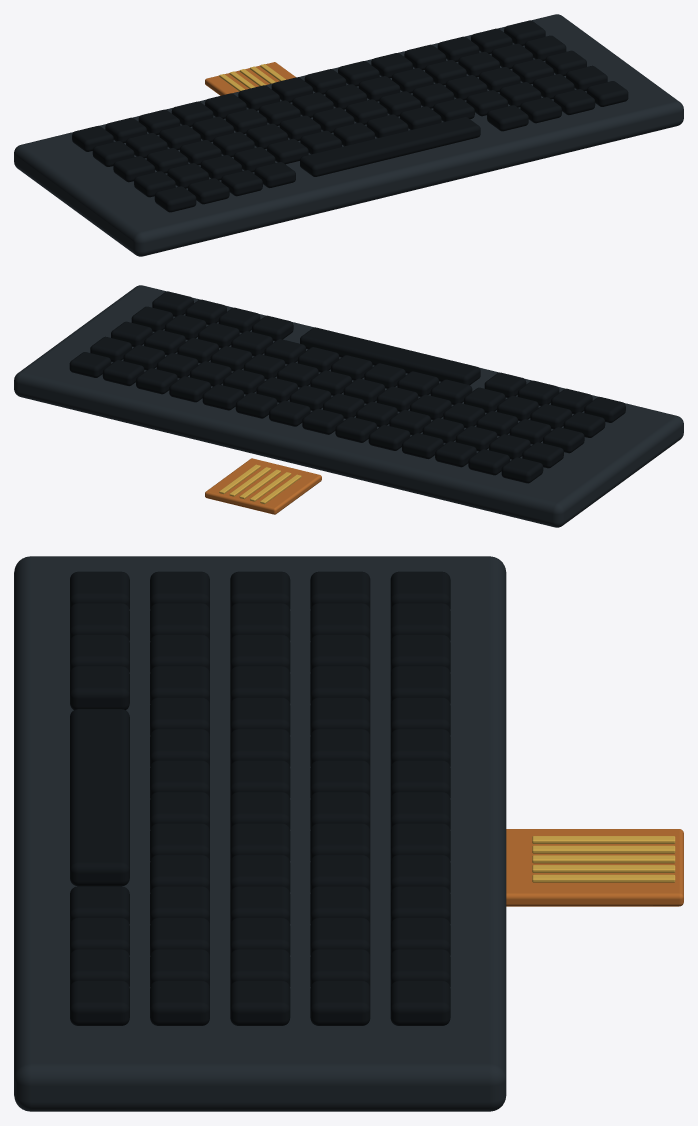
File: replacement-laptop-keyboard.glb
3 views of the same model, one above another, from view 1: azimuth 30°, elevation 25°; view 2: azimuth 150°, elevation 25°; view 3: azimuth 270°, elevation 25° (orthographic). The views are drawn at different scales.
Visible parts, largest first — view 1: Chiclet key (×64), Keyboard backplate, Space bar, Keyboard ribbon cable, Premium replacement laptop keyboard; view 2: Chiclet key (×64), Keyboard backplate, Space bar, Keyboard ribbon cable, Premium replacement laptop keyboard; view 3: Keyboard backplate, Chiclet key (×64), Space bar, Keyboard ribbon cable, Premium replacement laptop keyboard.
Part boxes in pixels (x1,y1,x2,y2): Chiclet key (×64): (72,20,628,212); Keyboard backplate: (14,14,683,256); Space bar: (300,117,480,176); Keyboard ribbon cable: (205,62,295,95); Premium replacement laptop keyboard: (219,64,285,91); Chiclet key (×64): (69,291,625,483); Keyboard backplate: (14,285,683,527); Space bar: (300,327,480,384); Keyboard ribbon cable: (205,458,321,514); Premium replacement laptop keyboard: (219,464,301,504); Keyboard backplate: (14,556,506,1111); Chiclet key (×64): (70,571,450,1025); Space bar: (70,709,129,886); Keyboard ribbon cable: (506,829,683,906); Premium replacement laptop keyboard: (532,836,675,882).
Bounding box in the file's own units: 2.15 × 0.17 × 1.17.
